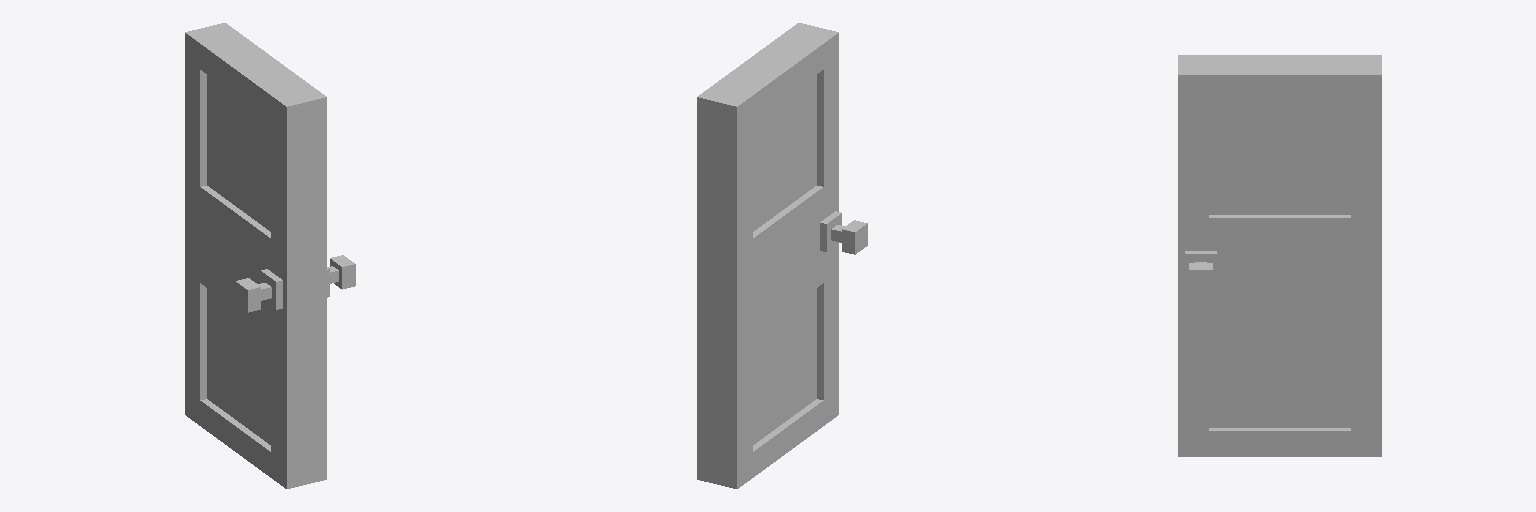
The model's file is Tür 2.obj.
The picture shows the model from 3 angles: view 1: azimuth 30°, elevation 25°; view 2: azimuth 150°, elevation 25°; view 3: azimuth 270°, elevation 25°; orthographic projection.
Visible parts, largest first — view 1: Tür_2; view 2: Tür_2; view 3: Tür_2.
Boxes of the visible parts, x1,y1,x2,y2 form: Tür_2: [185, 23, 355, 488]; Tür_2: [697, 23, 867, 488]; Tür_2: [1178, 55, 1381, 456].
Bounding box in the file's own units: 0.8 × 2.71 × 1.31.